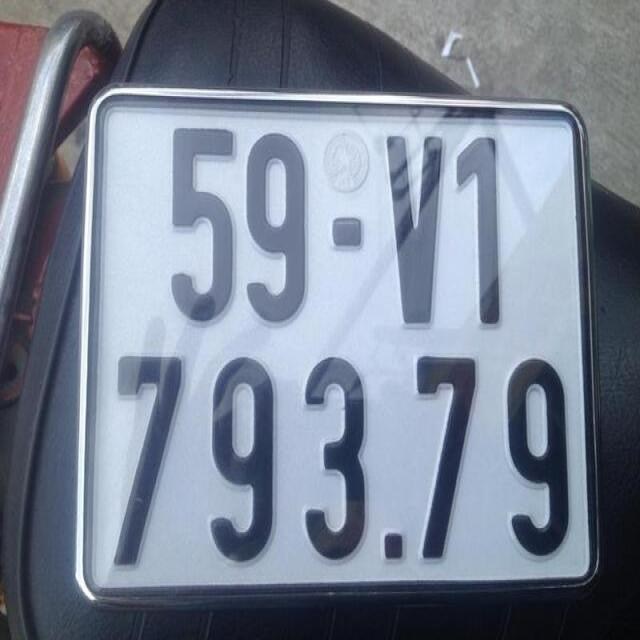plate: (78, 83, 602, 596)
